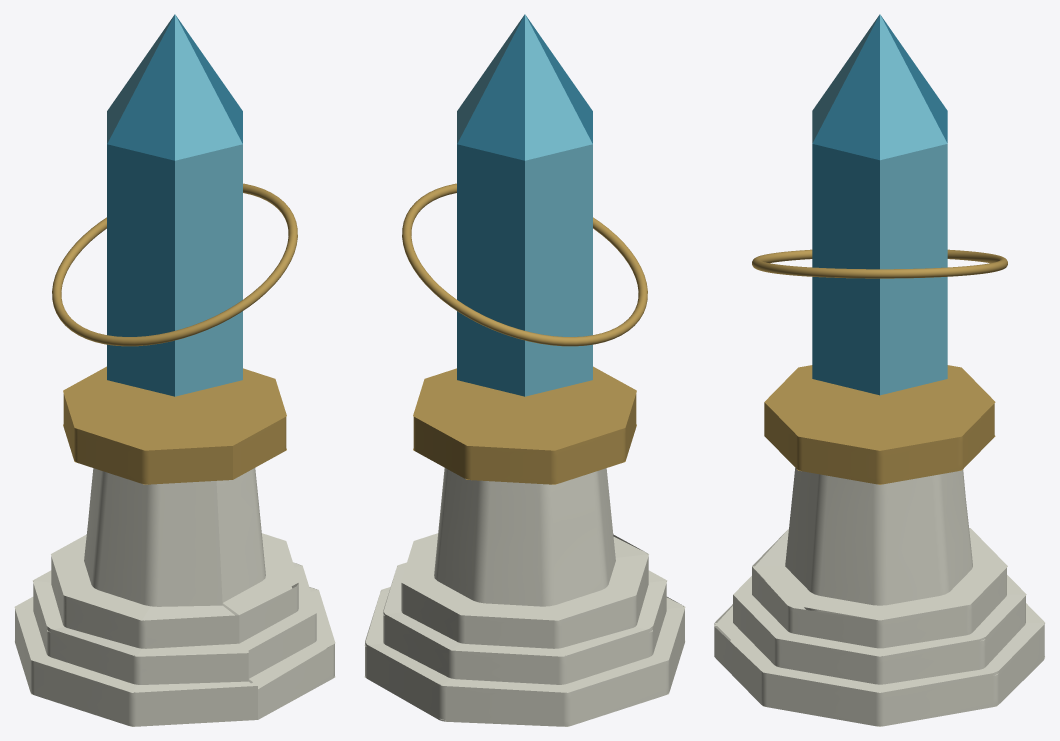
The model's file is waystone.glb.
3 views of the same model, side by side, from view 1: azimuth 30°, elevation 25°; view 2: azimuth 150°, elevation 25°; view 3: azimuth 270°, elevation 25° (orthographic).
Parts seen in each view (by area): view 1: SourceMesh_00003, SourceMesh_00004, SourceMesh_00000, SourceMesh_00009, SourceMesh_00007, SourceMesh_00002, SourceMesh_00001, SourceMesh_00008, SourceMesh_00010, SourceMesh_00017, SourceMesh_00006, SourceMesh_00012; view 2: SourceMesh_00003, SourceMesh_00004, SourceMesh_00000, SourceMesh_00011, SourceMesh_00013, SourceMesh_00002, SourceMesh_00001, SourceMesh_00012, SourceMesh_00014, SourceMesh_00017, SourceMesh_00010, SourceMesh_00016; view 3: SourceMesh_00003, SourceMesh_00004, SourceMesh_00005, SourceMesh_00015, SourceMesh_00000, SourceMesh_00002, SourceMesh_00001, SourceMesh_00006, SourceMesh_00016, SourceMesh_00017, SourceMesh_00008, SourceMesh_00014.
Part boxes in pixels (x1,y1,x2,y2): SourceMesh_00003: (84, 468, 265, 615); SourceMesh_00004: (63, 366, 286, 484); SourceMesh_00000: (14, 587, 335, 726); SourceMesh_00009: (107, 144, 174, 396); SourceMesh_00007: (175, 144, 242, 396); SourceMesh_00002: (51, 533, 298, 648); SourceMesh_00001: (32, 562, 317, 684); SourceMesh_00008: (175, 14, 242, 160); SourceMesh_00010: (107, 14, 174, 160); SourceMesh_00017: (52, 183, 297, 346); SourceMesh_00006: (176, 16, 242, 143); SourceMesh_00012: (107, 16, 173, 143); SourceMesh_00003: (434, 468, 615, 606); SourceMesh_00004: (413, 366, 636, 484); SourceMesh_00000: (364, 587, 685, 726); SourceMesh_00011: (525, 144, 592, 396); SourceMesh_00013: (457, 144, 524, 396); SourceMesh_00002: (401, 533, 648, 648); SourceMesh_00001: (382, 562, 667, 684); SourceMesh_00012: (525, 14, 592, 160); SourceMesh_00014: (457, 14, 524, 160); SourceMesh_00017: (402, 183, 647, 346); SourceMesh_00010: (526, 16, 592, 143); SourceMesh_00016: (457, 16, 523, 143); SourceMesh_00003: (785, 468, 972, 619); SourceMesh_00004: (764, 365, 995, 484); SourceMesh_00005: (812, 144, 879, 395); SourceMesh_00015: (880, 144, 947, 395); SourceMesh_00000: (714, 603, 1045, 726); SourceMesh_00002: (752, 528, 1007, 648); SourceMesh_00001: (733, 575, 1026, 684); SourceMesh_00006: (812, 14, 879, 160); SourceMesh_00016: (880, 14, 947, 160); SourceMesh_00017: (752, 249, 1007, 278); SourceMesh_00008: (812, 16, 878, 142); SourceMesh_00014: (881, 16, 947, 142).
Size of the model in its own units: 1.06 by 2.28 by 1.06.
